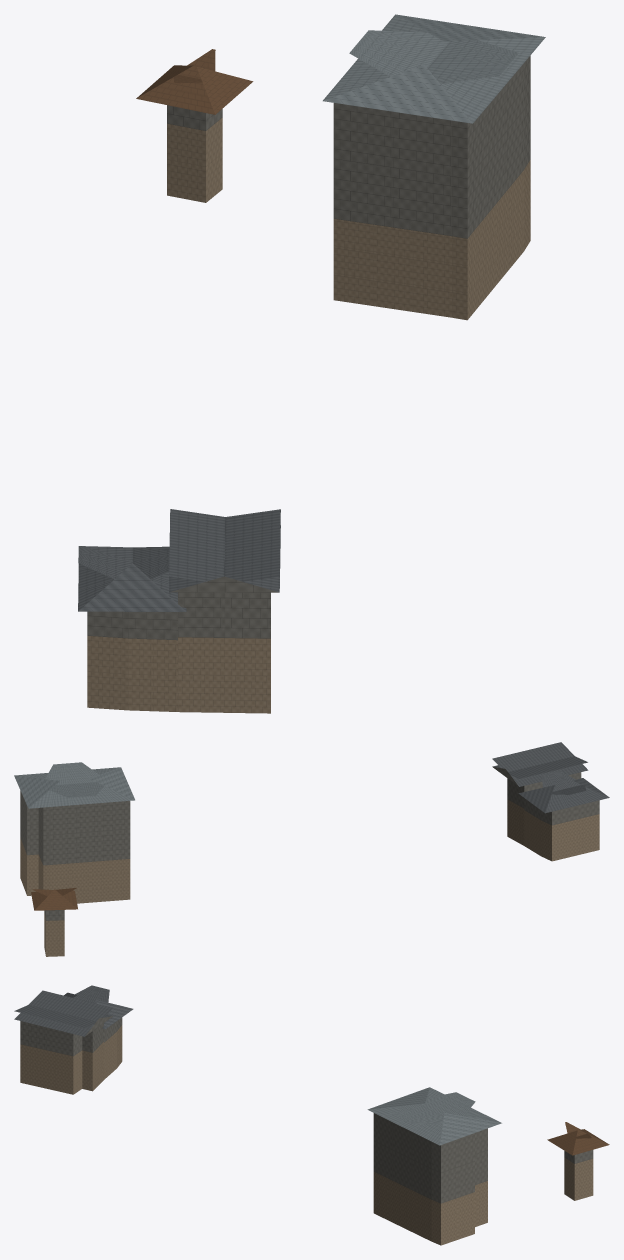
Rendered from bld_c28_-54_547.gltf.
3 renders of one model, top to bottom at view 1: azimuth 30°, elevation 25°; view 2: azimuth 150°, elevation 25°; view 3: azimuth 270°, elevation 25°, orthographic. The views are drawn at different scales.
Visible parts, largest first — view 1: bld_c28_-54_547; view 2: bld_c28_-54_547; view 3: bld_c28_-54_547.
Boxes of the visible parts, x1,y1,x2,y2 form: bld_c28_-54_547: (78,14,545,713); bld_c28_-54_547: (14,742,609,956); bld_c28_-54_547: (14,985,609,1245).
Size of the model in its own units: 54.35 by 14.2 by 65.77.
6 materials, 6 textured.
